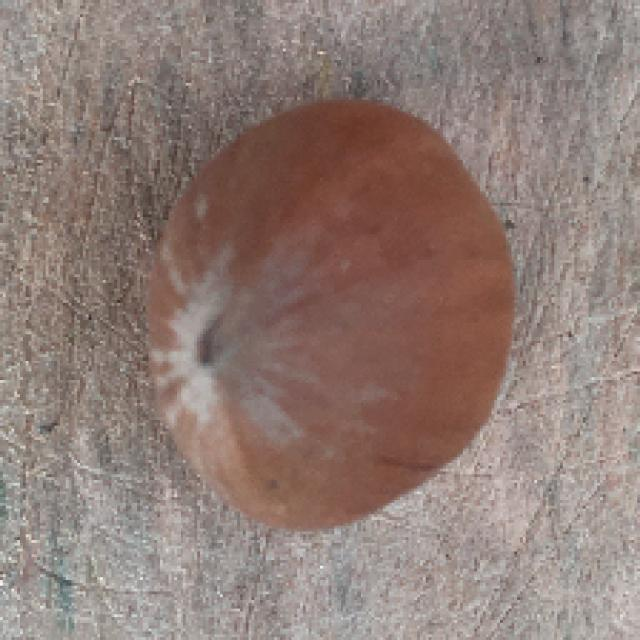damagedHazelnut: (132, 85, 528, 527)
